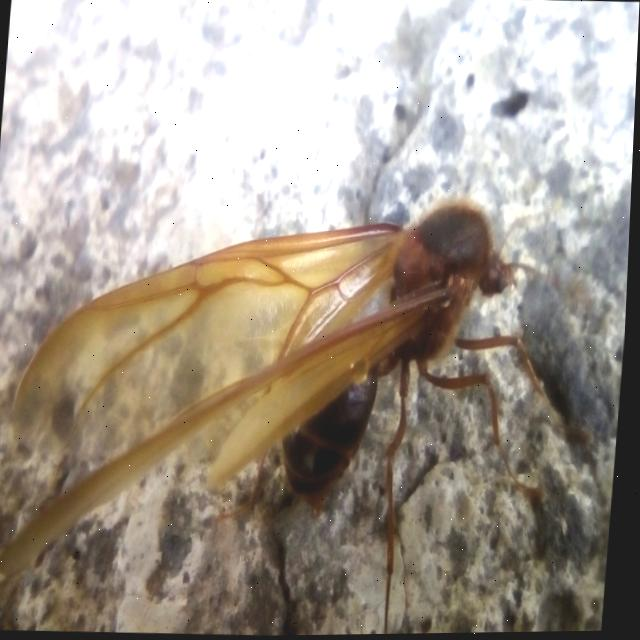Alive-Male-Alate: (0, 178, 616, 640)
